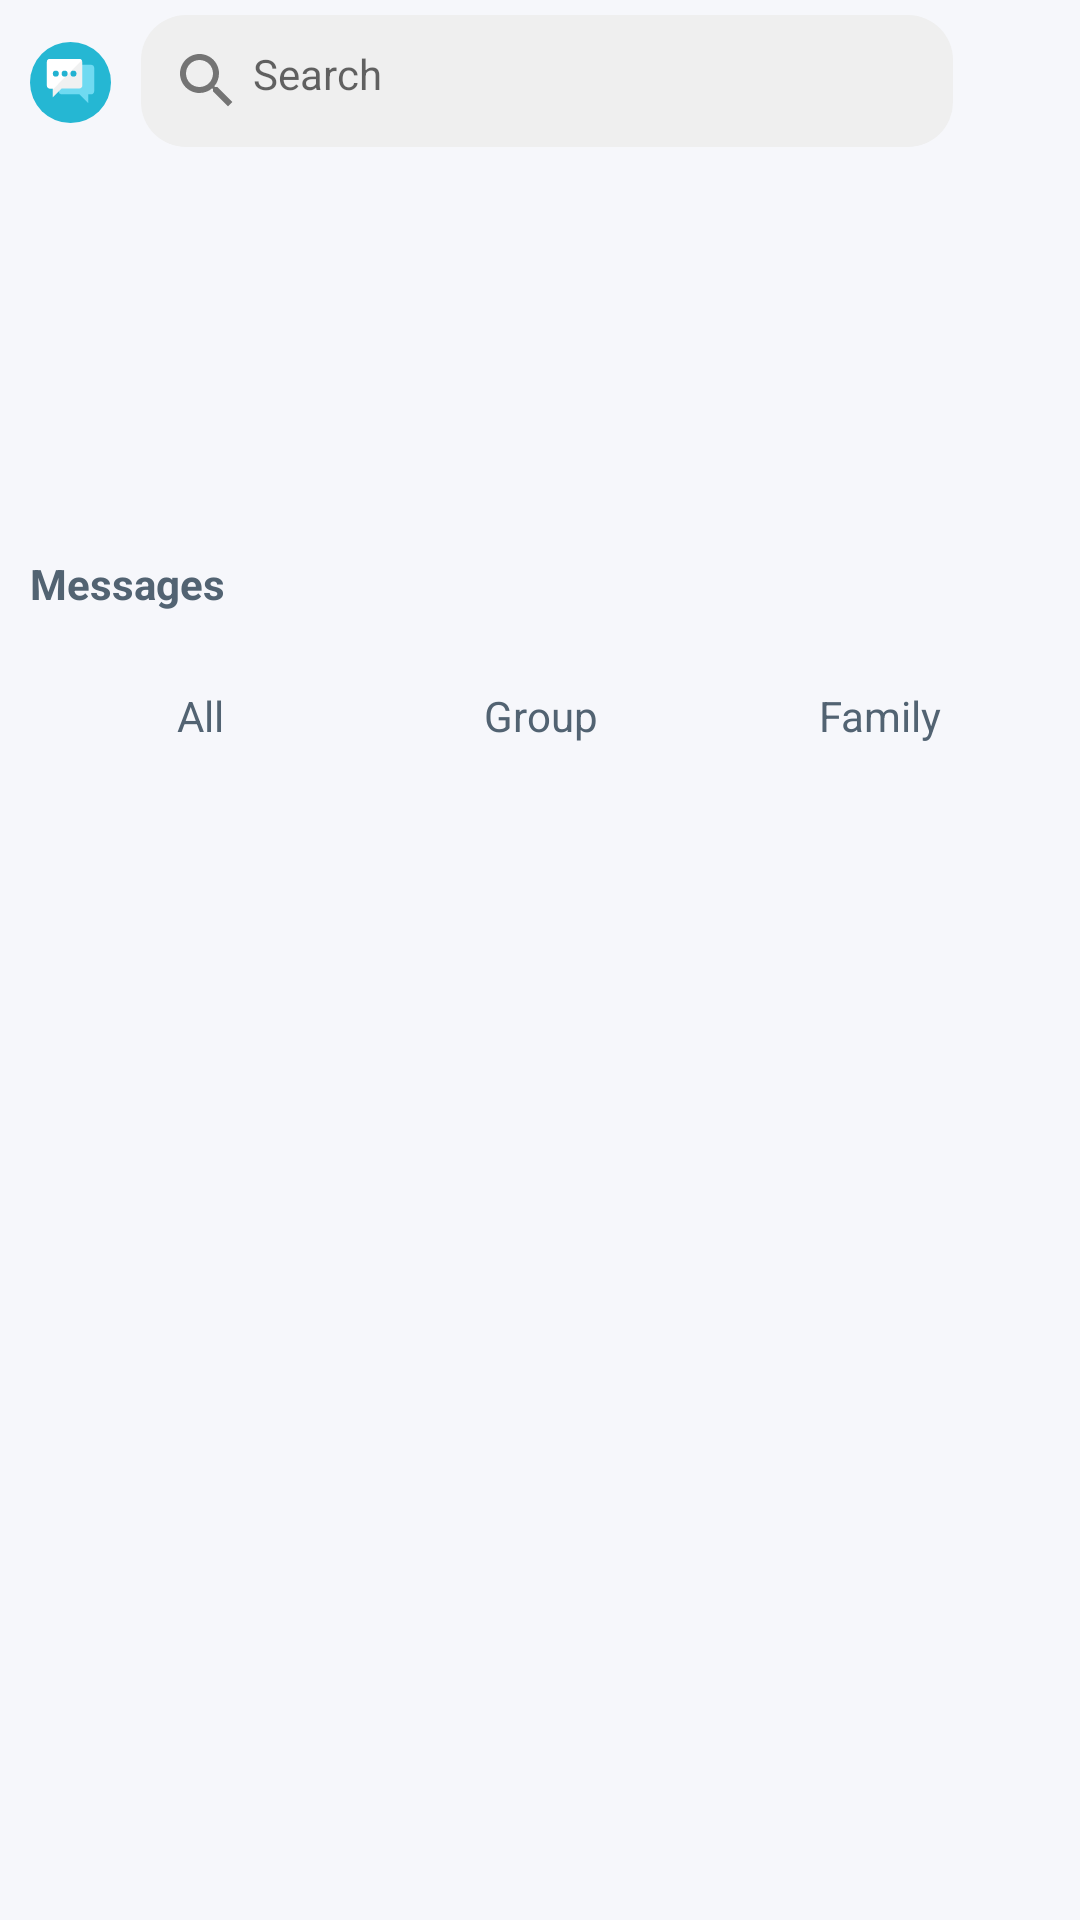

Icon click points for this 1080px×1920px phone screenshot, format [x,y]:
chat: [70,82]
